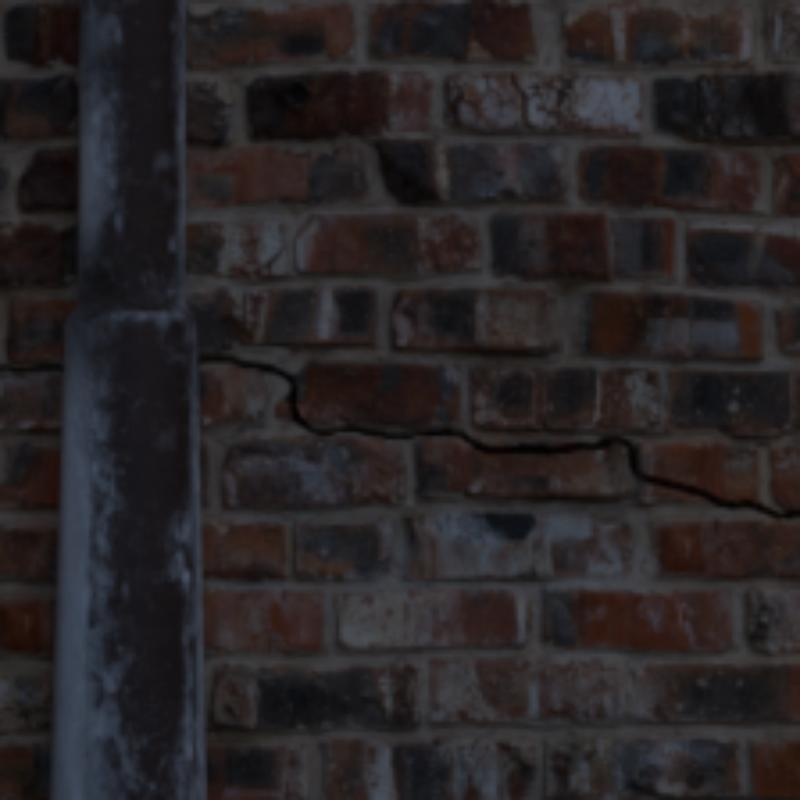pothole: (196, 354, 571, 454), (571, 439, 796, 518), (0, 364, 61, 371), (514, 82, 525, 96), (525, 118, 532, 132), (525, 96, 529, 111)
